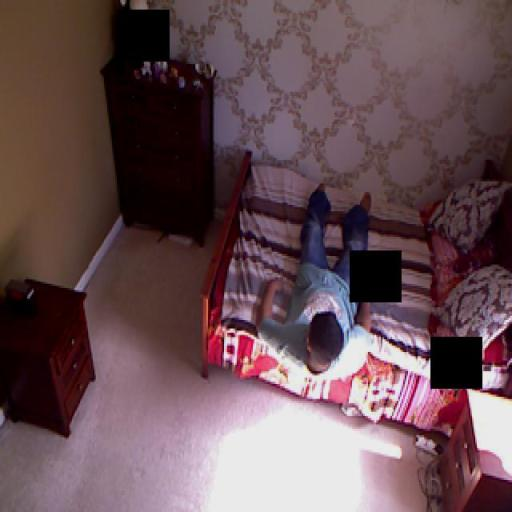Fall: (263, 180, 388, 384)
